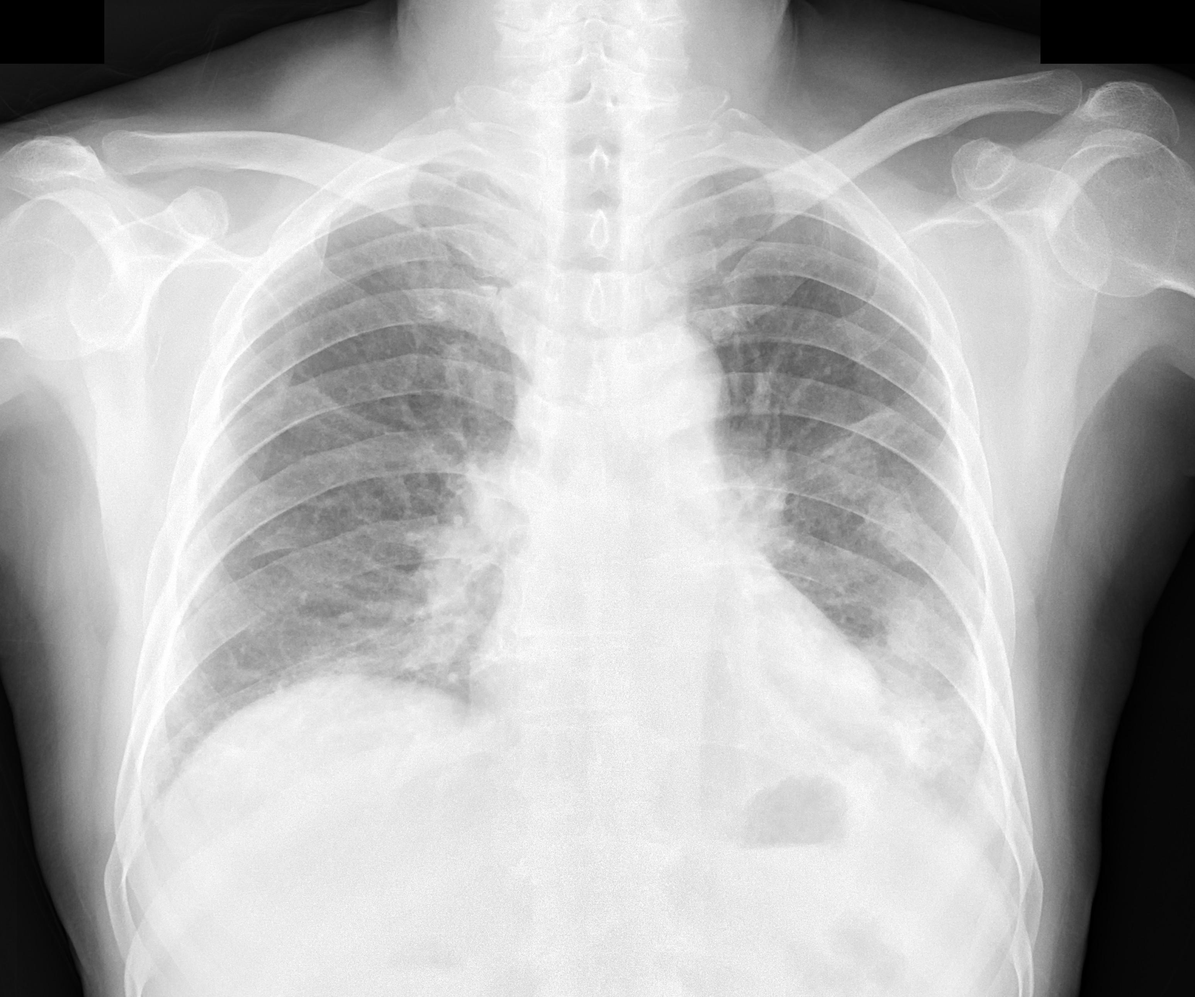Pulmonary fibrosis: (814, 414, 977, 761)
